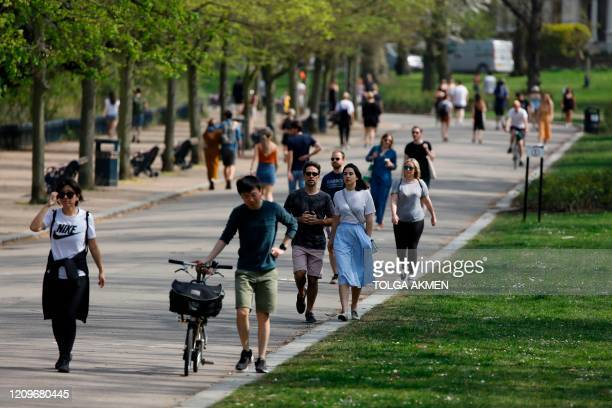person: (193, 166, 304, 388), (21, 170, 114, 382), (277, 155, 341, 330), (325, 158, 379, 328), (385, 155, 438, 291), (361, 130, 400, 220), (251, 123, 286, 201), (406, 122, 435, 187), (321, 146, 348, 204)
